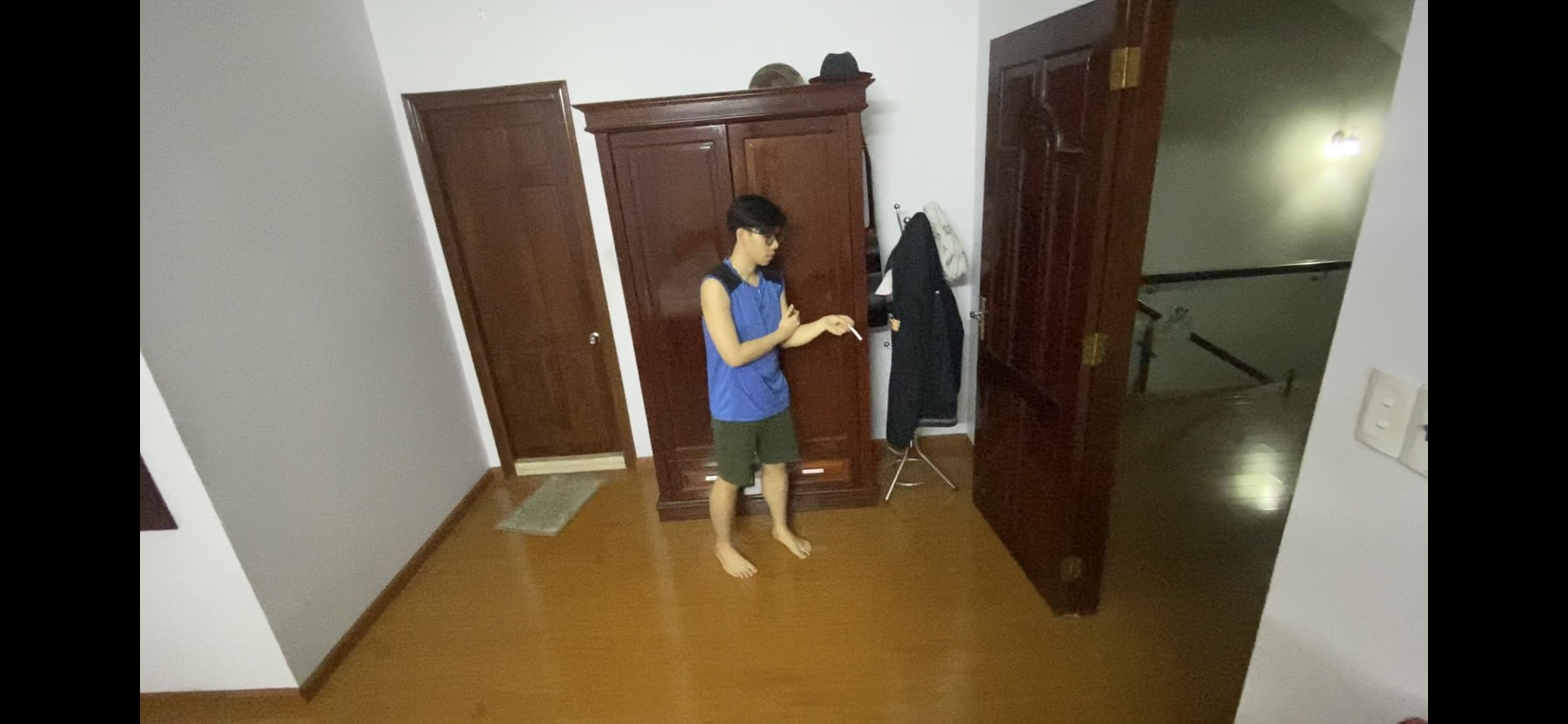cigarette: (848, 320, 862, 343)
person: (683, 192, 848, 577)
